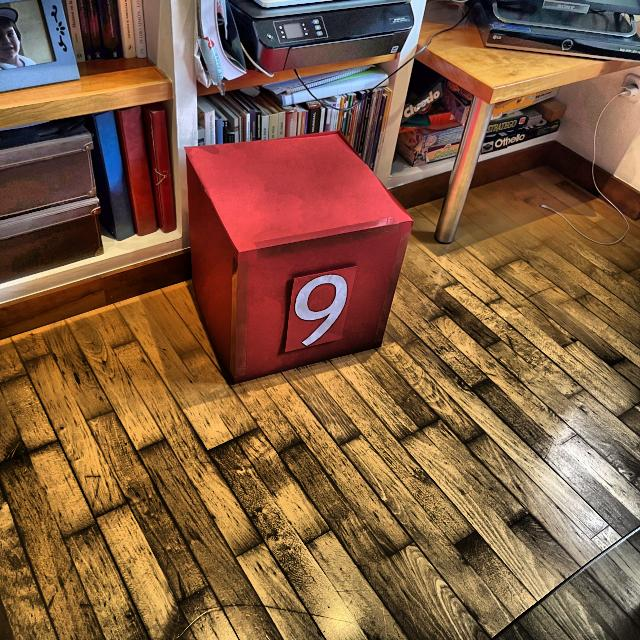nine: (296, 275, 350, 346)
red box: (186, 134, 405, 385)
